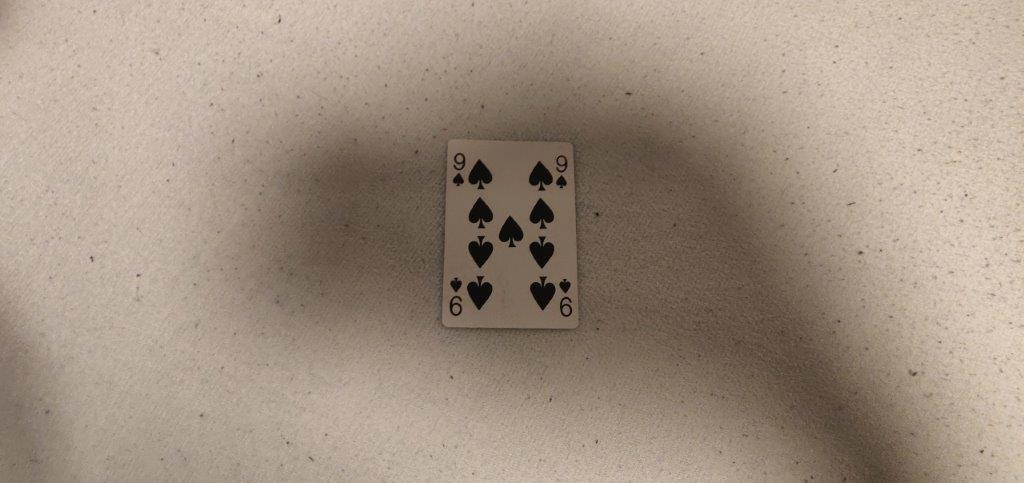9S: (449, 149, 467, 192), (551, 152, 571, 188)
